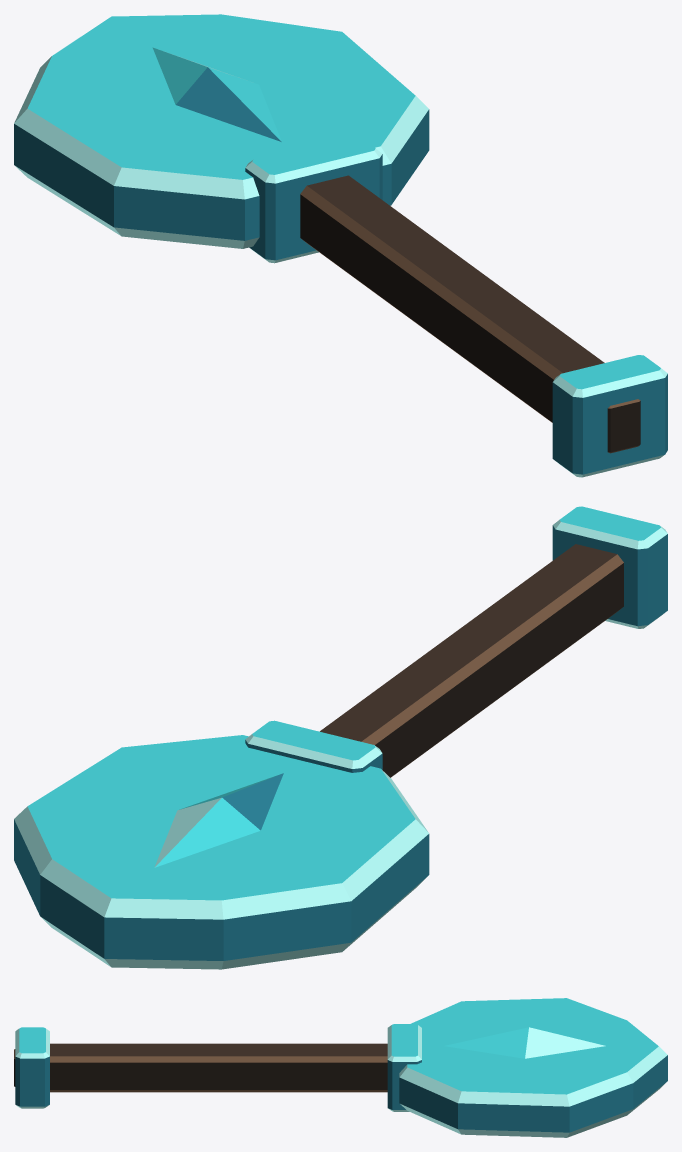
The model's file is diamond_shovel.fbx.
3 renders of one model, top to bottom at view 1: azimuth 30°, elevation 25°; view 2: azimuth 150°, elevation 25°; view 3: azimuth 270°, elevation 25°, orthographic. The views are drawn at different scales.
Parts seen in each view (by area): view 1: diamond_shovel; view 2: diamond_shovel; view 3: diamond_shovel.
Part boxes in pixels (left/top/right/bottom): diamond_shovel: left=14, top=14, right=667, bottom=477; diamond_shovel: left=14, top=506, right=667, bottom=969; diamond_shovel: left=14, top=998, right=667, bottom=1137.
Bounding box in the file's own units: 0.92 × 0.32 × 2.46.
Materials: 1 (1 with a texture image).
